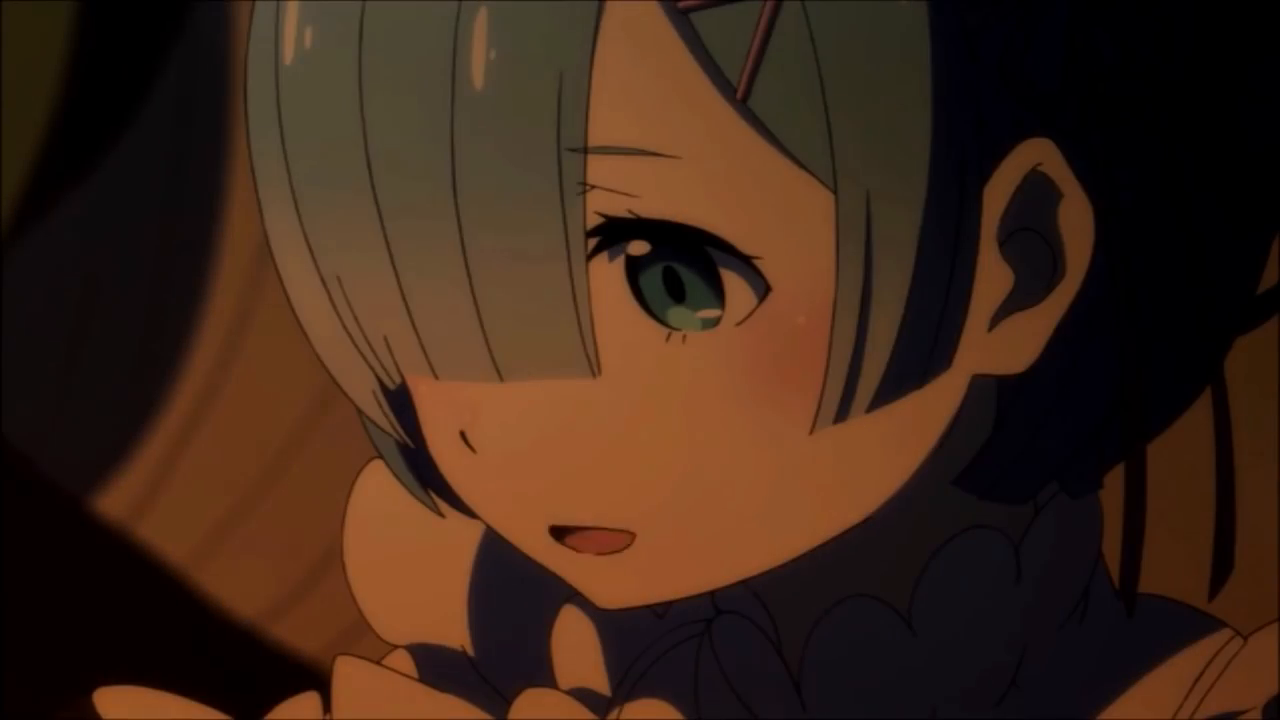REM: (239, 1, 1245, 614)
